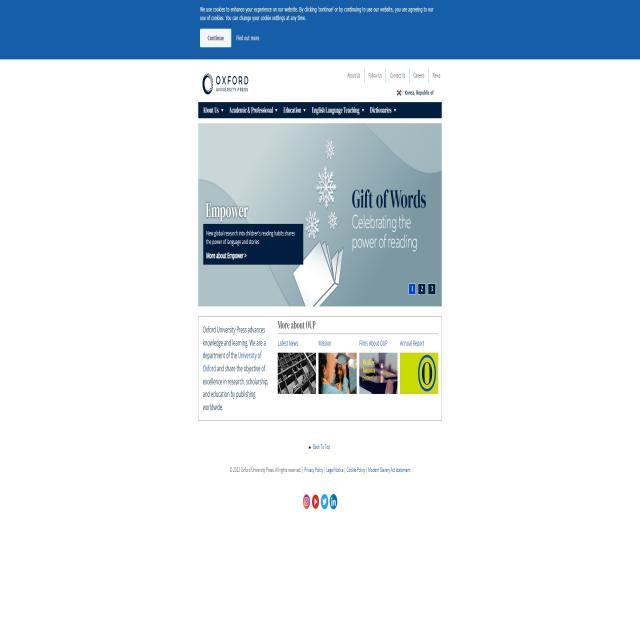menu-bar: (345, 62, 442, 88)
tab-bar: (198, 102, 398, 118)
